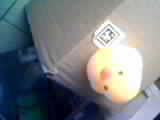duck: (75, 31, 144, 106)
